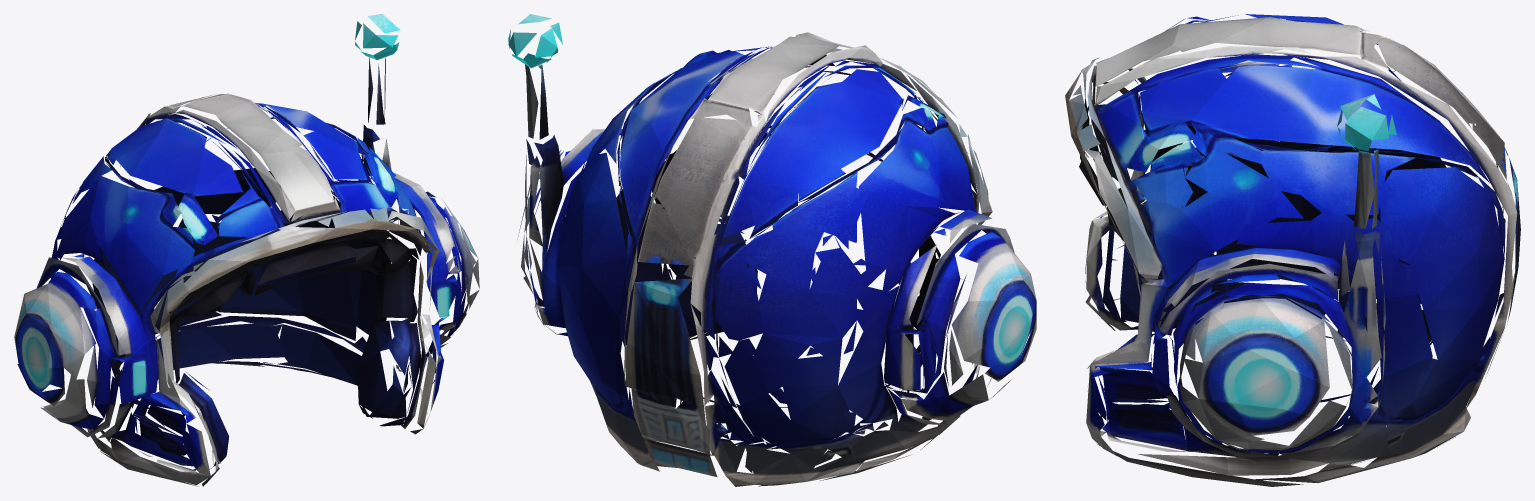
The model's file is hat_rare_lo.glb.
The picture shows the model from 3 angles, left to right: view 1: azimuth 30°, elevation 25°; view 2: azimuth 150°, elevation 25°; view 3: azimuth 270°, elevation 25°; orthographic projection. The views are drawn at different scales.
Visible parts, largest first — view 1: geometry_0; view 2: geometry_0; view 3: geometry_0.
Part boxes in pixels (x1,y1,x2,y2): geometry_0: (14, 14, 479, 486); geometry_0: (508, 14, 1036, 486); geometry_0: (1065, 14, 1520, 486).
Size of the model in its own units: 0.996 by 0.7619 by 0.7574.
Materials: 1 (1 with a texture image).
